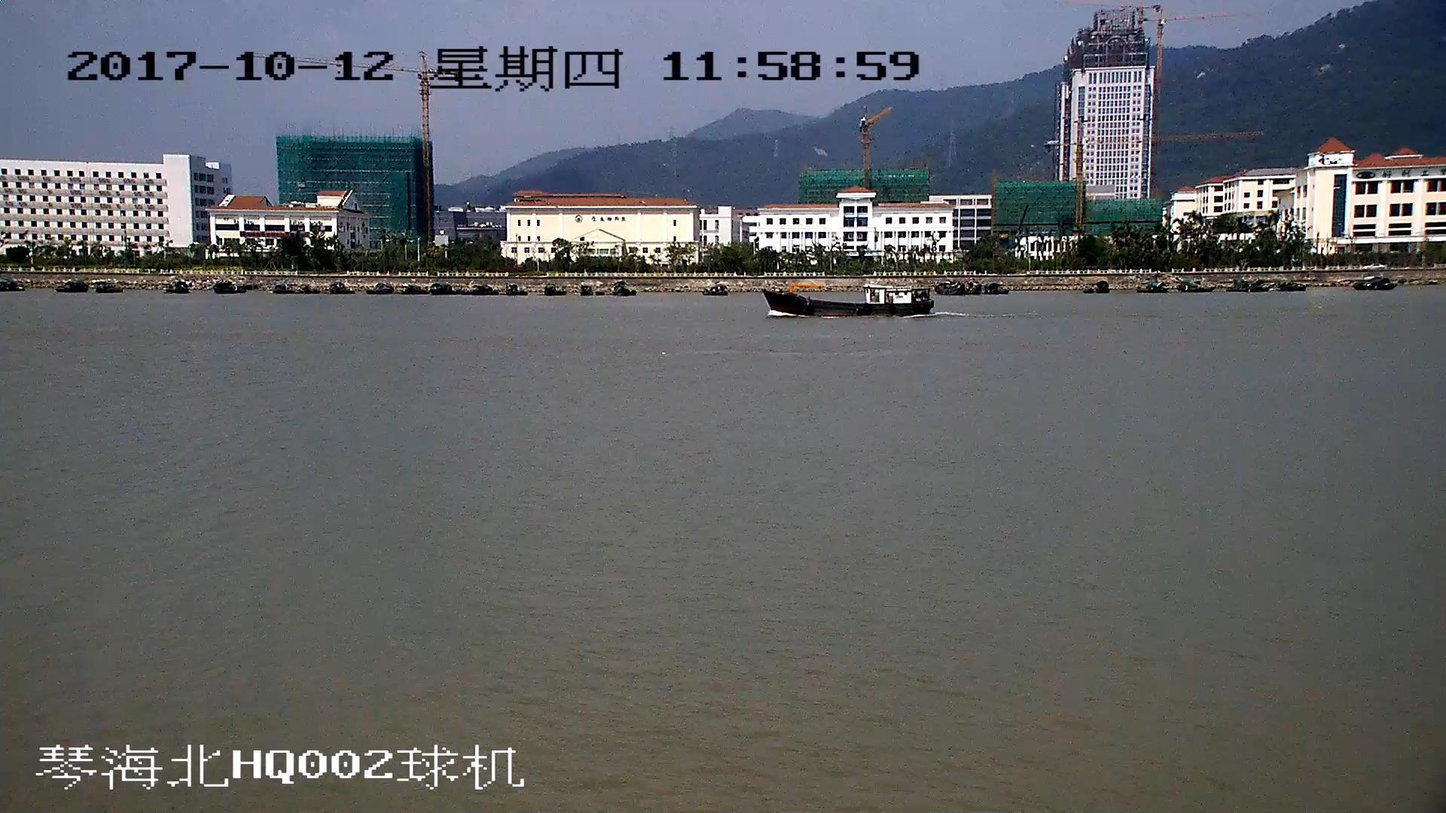fishing boat: (759, 286, 932, 315)
